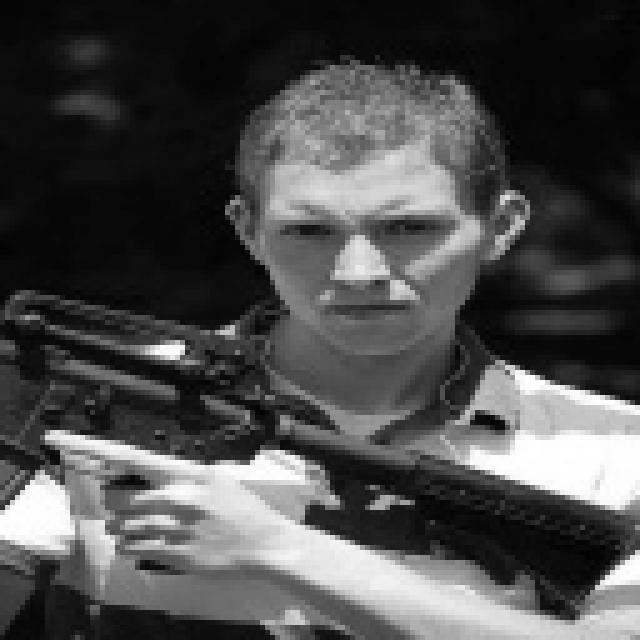Rifle: (0, 224, 640, 638)
